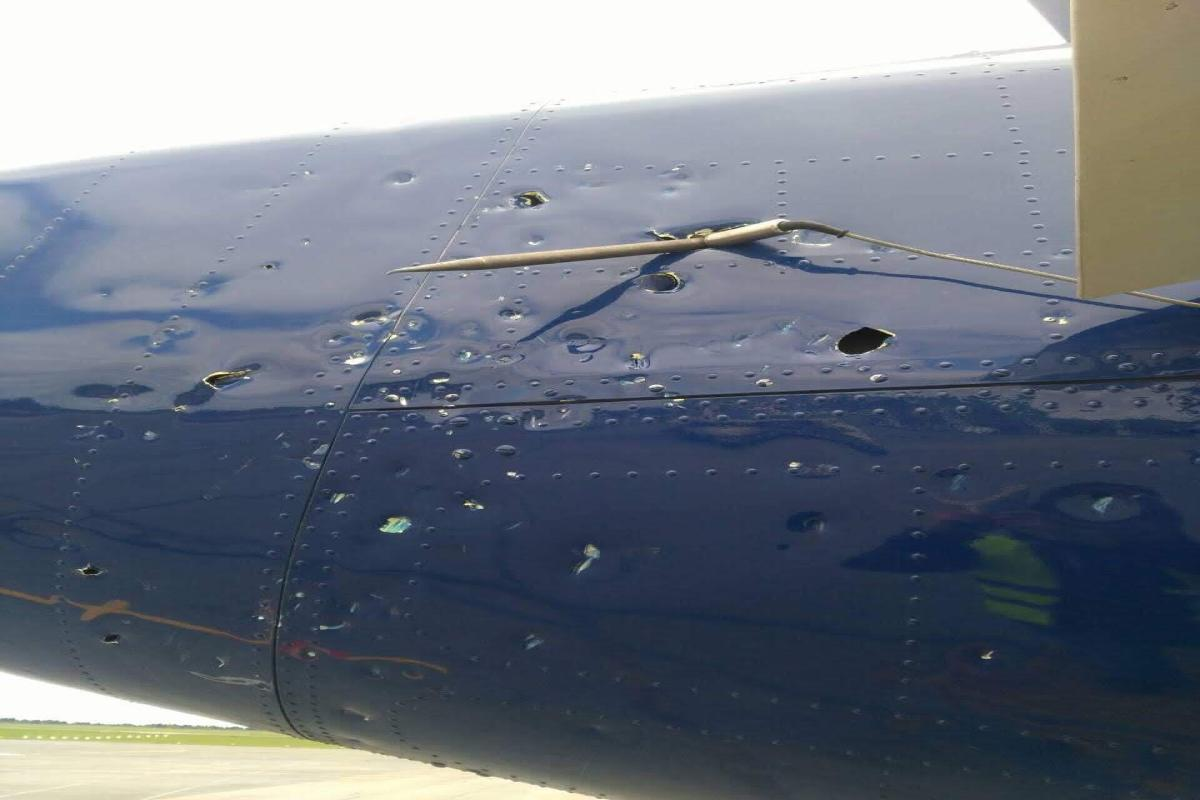Fuselage_damage: (375, 206, 829, 281), (301, 297, 443, 371), (1033, 478, 1175, 530), (182, 354, 284, 399), (828, 324, 904, 363), (623, 268, 697, 298), (557, 325, 619, 357), (565, 537, 609, 580), (779, 508, 837, 539), (371, 510, 426, 541), (500, 186, 558, 212), (487, 301, 539, 326), (513, 625, 554, 656), (377, 166, 428, 190), (938, 463, 974, 495), (71, 559, 116, 580), (453, 495, 492, 516), (95, 632, 126, 647)
